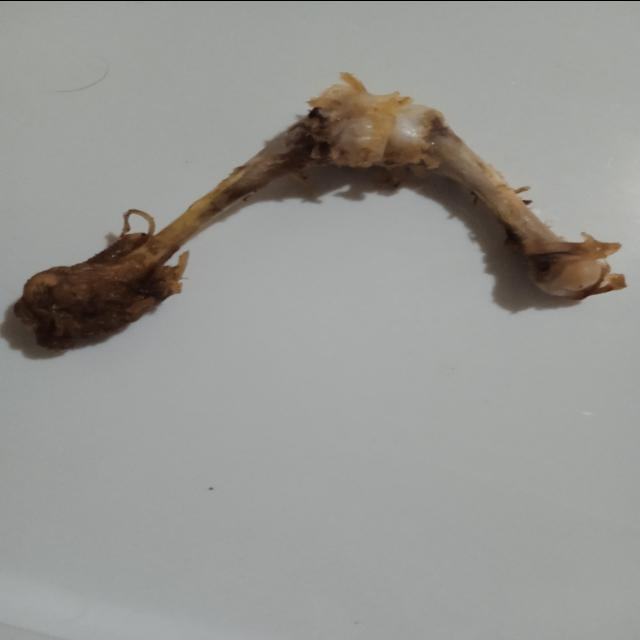bone: (0, 49, 640, 364)
